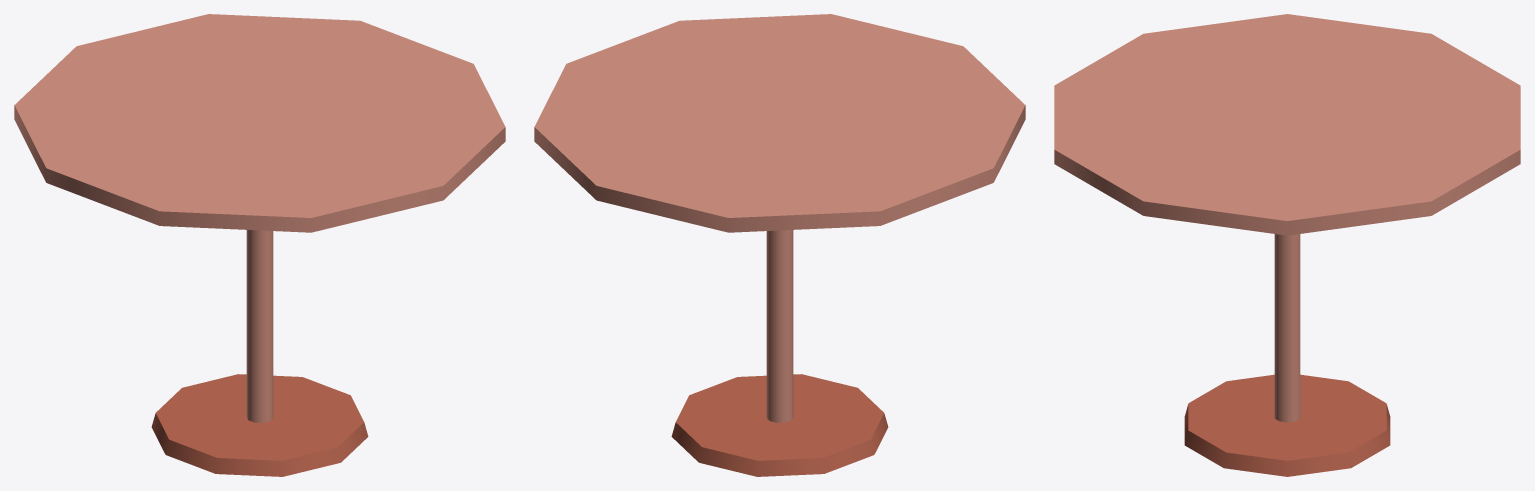
Rendered from Table_1.fbx.
The picture shows the model from 3 angles, left to right: view 1: azimuth 30°, elevation 25°; view 2: azimuth 150°, elevation 25°; view 3: azimuth 270°, elevation 25°; orthographic projection.
Parts seen in each view (by area): view 1: Table_1; view 2: Table_1; view 3: Table_1.
Part boxes in pixels (x1=…): Table_1: x1=14, y1=14, x2=505, y2=476; Table_1: x1=534, y1=14, x2=1025, y2=476; Table_1: x1=1054, y1=14, x2=1520, y2=476.
Size of the model in its own units: 174 by 123 by 166.
